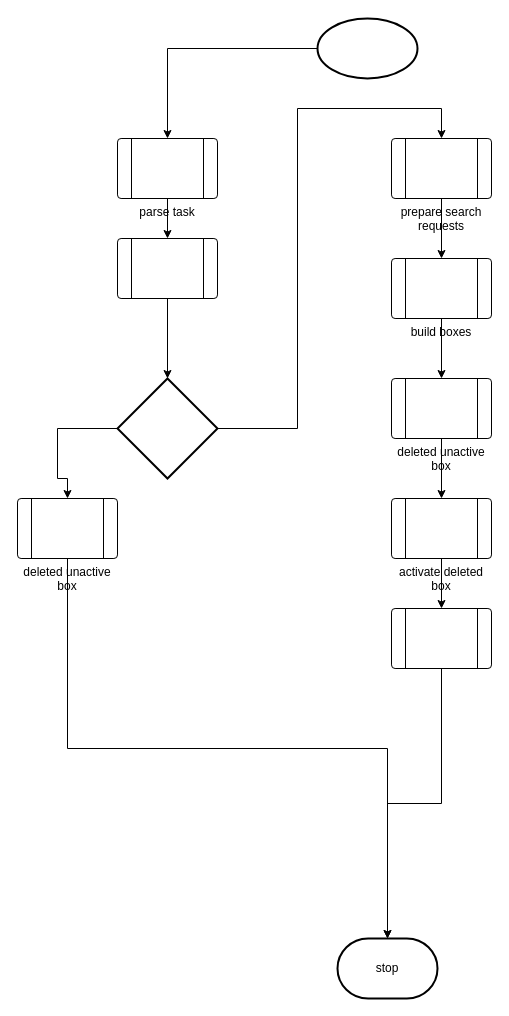
Some shapes in this 509 by 1016 pixel diagram are drawn without their labels. Each missing label, with the centre of its shape:
"add new box" belongs at [441,638].
"count(combinatiosn) >0" belongs at [167,428].
"get combinations" belongs at [167,268].
"start" belongs at [367,48].
